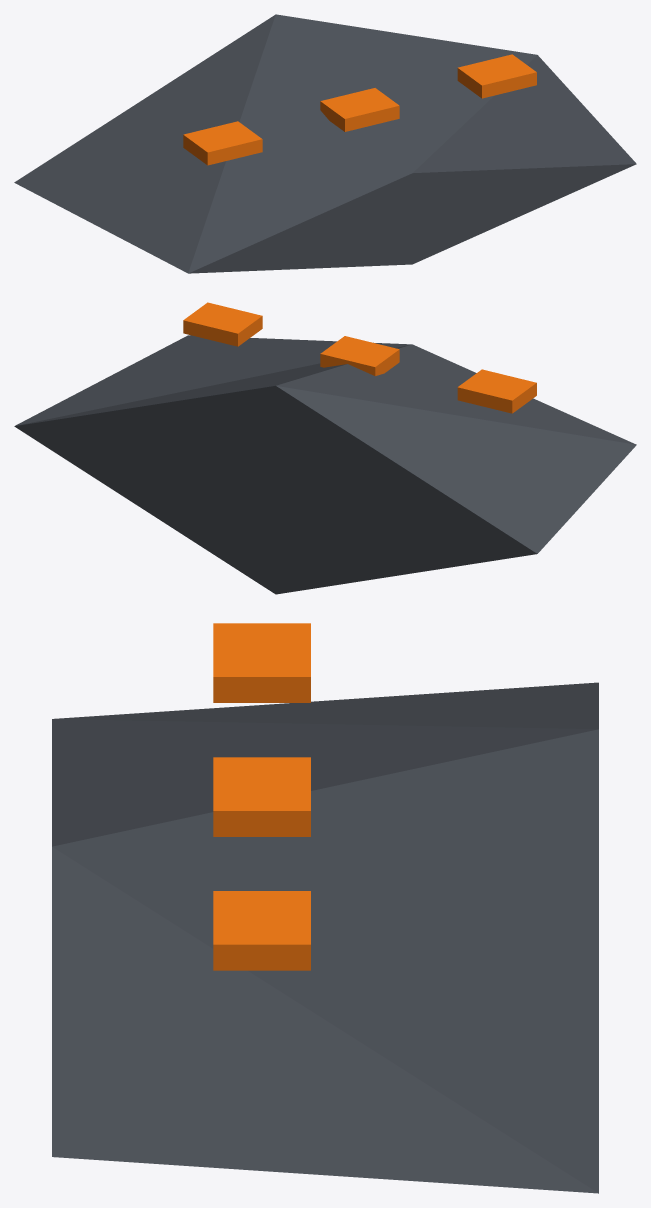
File: ENV_prop_barrier.obj
3 renders of one model, top to bottom at view 1: azimuth 30°, elevation 25°; view 2: azimuth 150°, elevation 25°; view 3: azimuth 270°, elevation 25°, orthographic. The views are drawn at different scales.
Visible parts, largest first — view 1: ENV_prop_barrier; view 2: ENV_prop_barrier; view 3: ENV_prop_barrier.
Part boxes in pixels (x1,y1,x2,y2): ENV_prop_barrier: (14, 14, 636, 273); ENV_prop_barrier: (14, 302, 636, 594); ENV_prop_barrier: (52, 623, 598, 1193).
Bounding box in the file's own units: 2.1 × 0.8 × 0.95.
